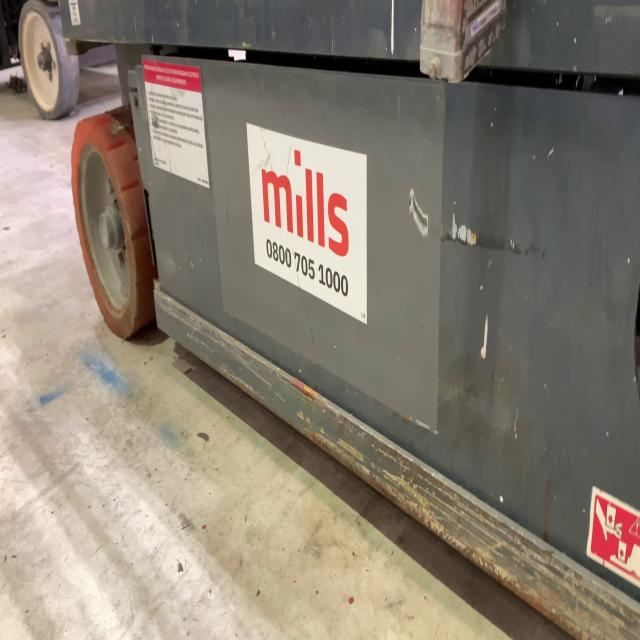Adesivos: (244, 119, 369, 329)
